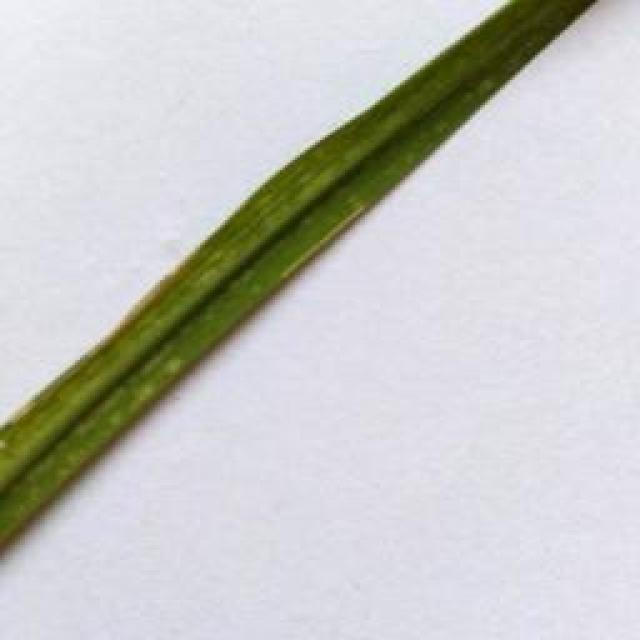Healthy-Plant: (0, 0, 493, 509)
